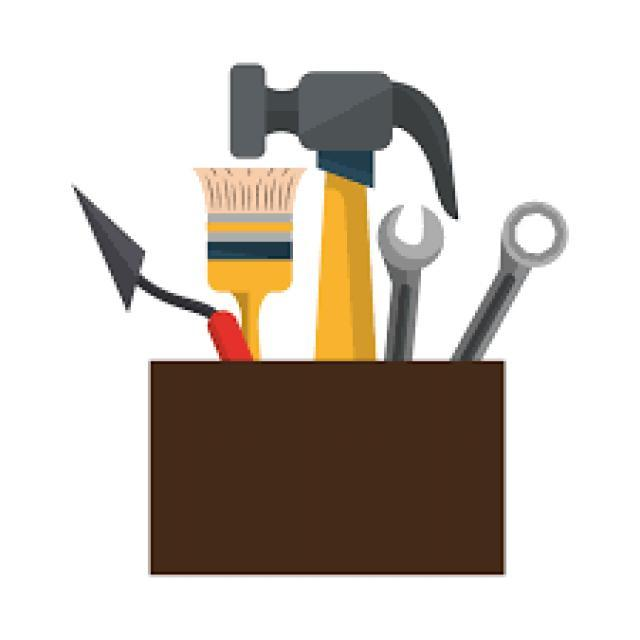hammer: (212, 58, 476, 215)
wrench: (457, 181, 582, 404), (357, 197, 445, 376)
